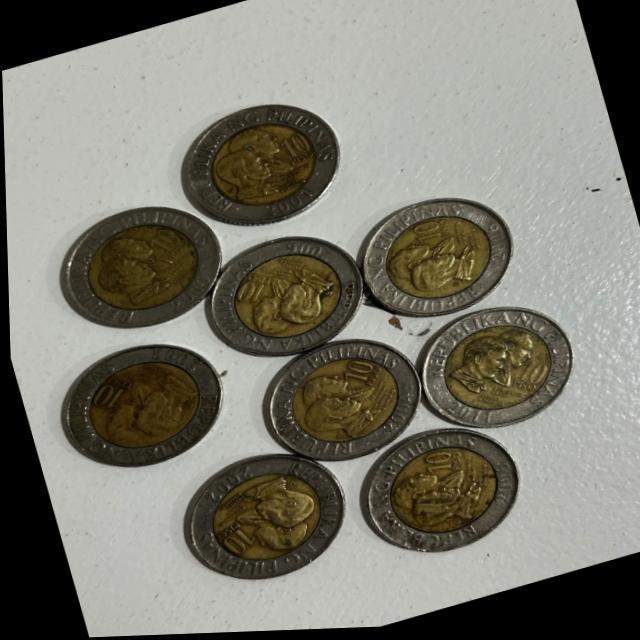10_Old_Front: (405, 215, 453, 258)
